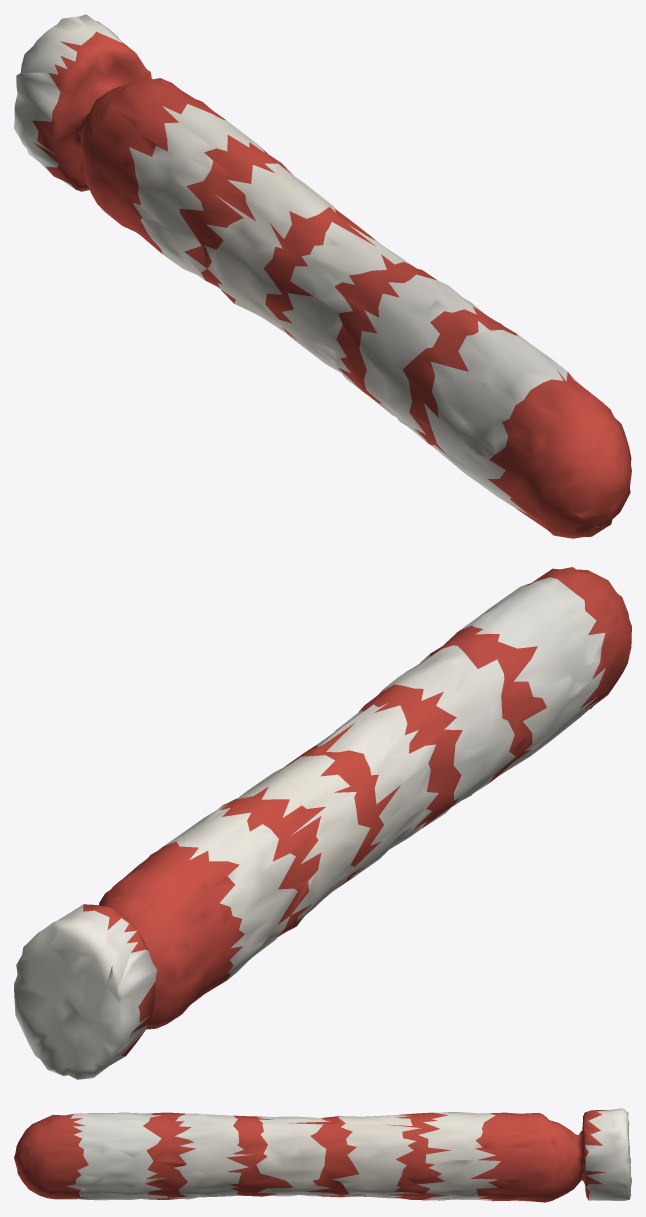
The model's file is den_sock_lod1.glb.
3 views of the same model, one above another, from view 1: azimuth 30°, elevation 25°; view 2: azimuth 150°, elevation 25°; view 3: azimuth 270°, elevation 25° (orthographic). The views are drawn at different scales.
Visible parts, largest first — view 1: den_sock.001; view 2: den_sock.001; view 3: den_sock.001.
Boxes of the visible parts, x1,y1,x2,y2 form: den_sock.001: (14,14,631,538); den_sock.001: (14,567,631,1079); den_sock.001: (14,1108,631,1202).
Size of the model in its own units: 2.84 by 3.68 by 23.87.
